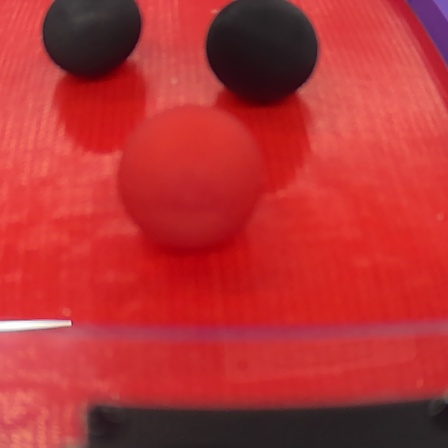black: (203, 0, 317, 103), (37, 0, 142, 80)
red: (115, 106, 259, 256)
red_aim: (4, 3, 448, 448)
